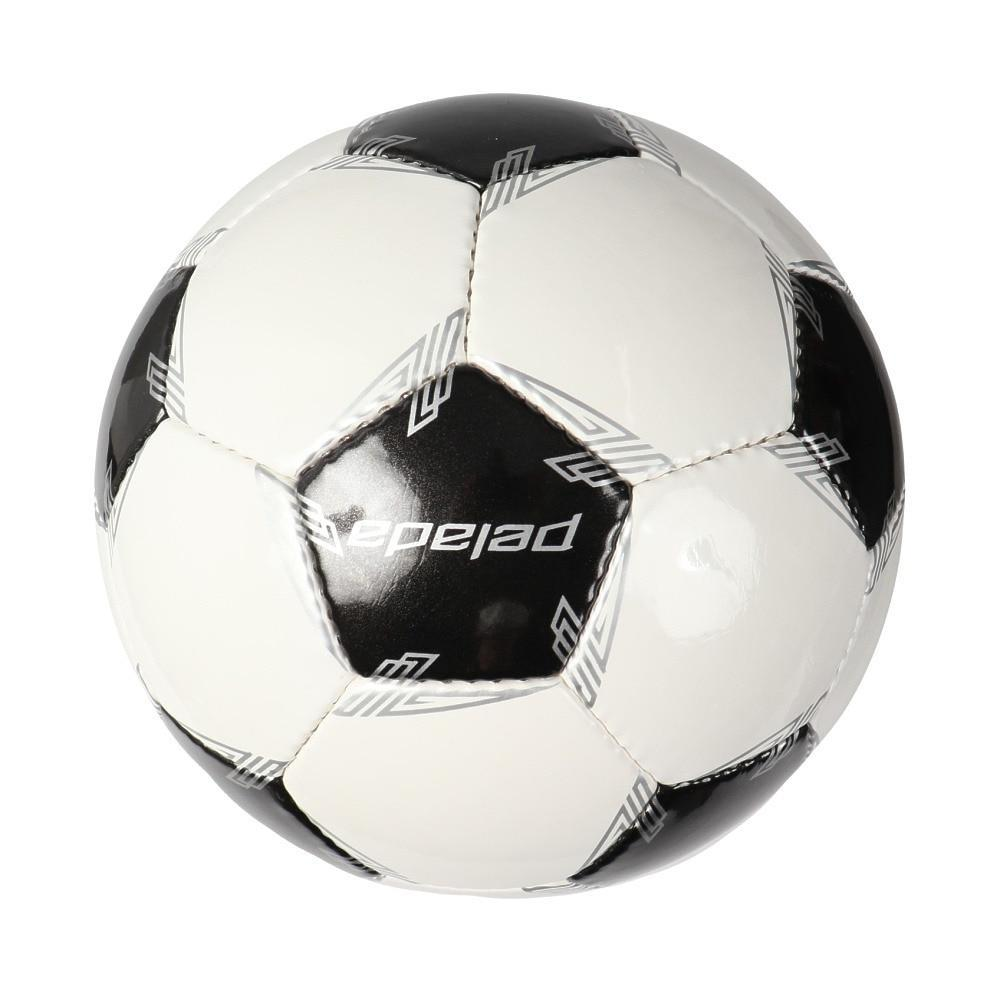Sports-Ball: (93, 87, 911, 901)
